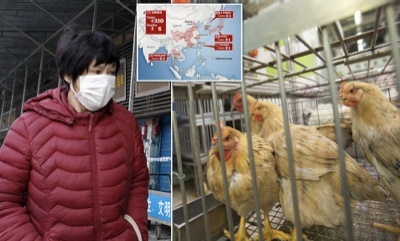good: (74, 62, 120, 112)
